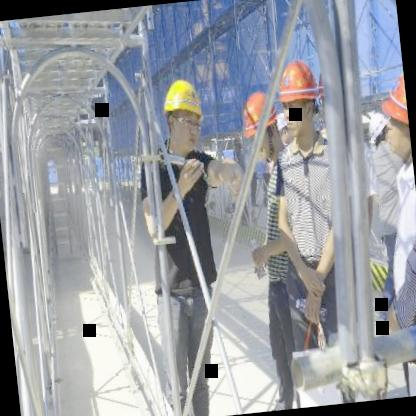helmet: (271, 50, 329, 146), (156, 68, 209, 158), (376, 64, 411, 152), (238, 89, 281, 156), (364, 109, 394, 152)
